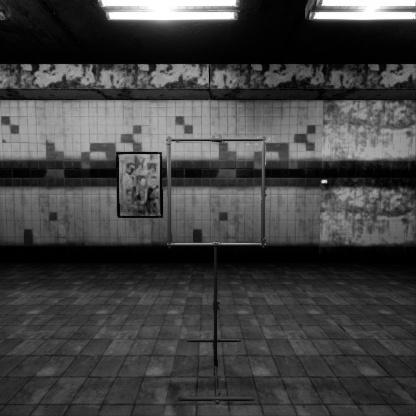gate: (167, 168, 275, 278)
